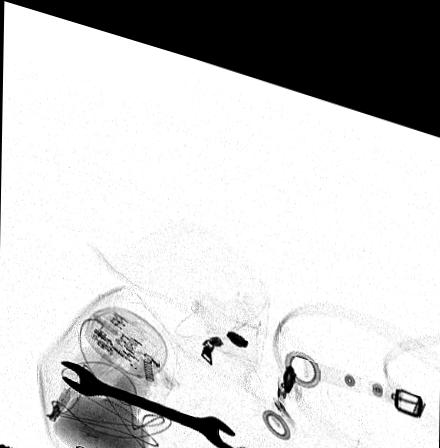Wrench: (58, 355, 239, 439)
